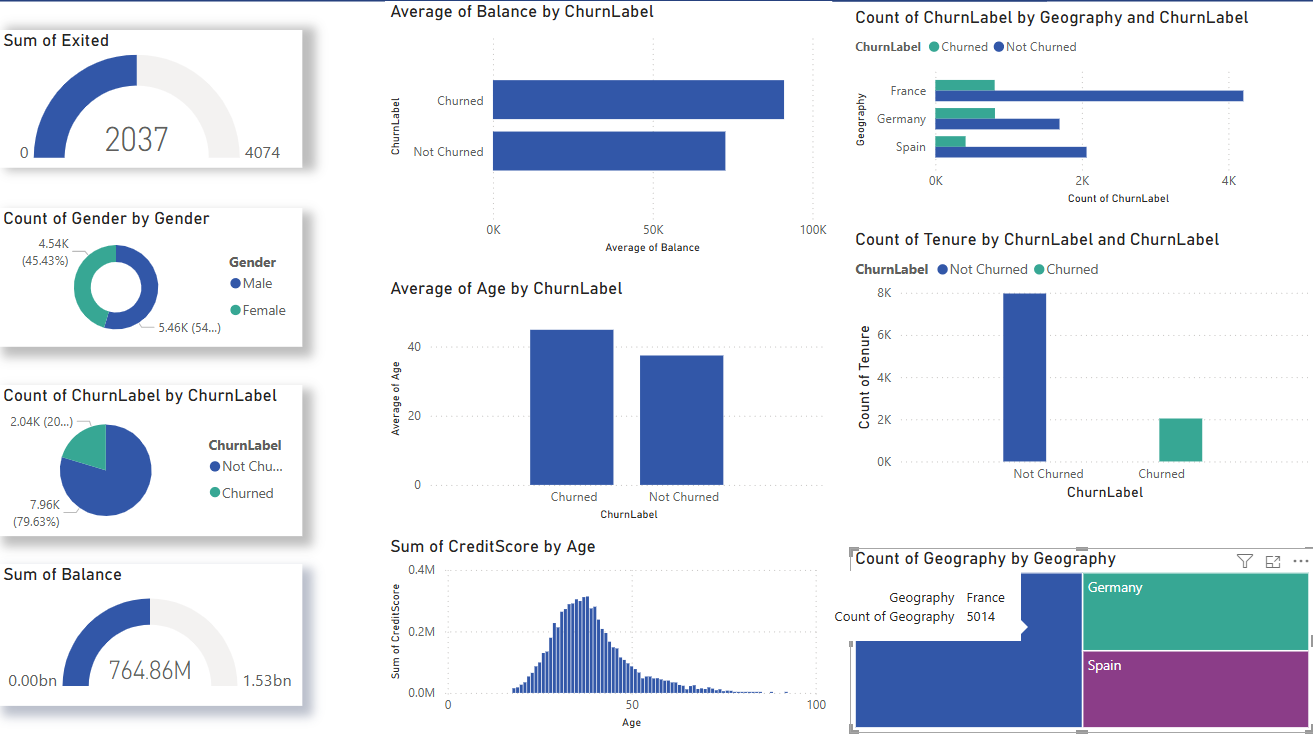

Layout of this report page (visuals, bound fields, positions):
{"tool":"powerbi","page":{"name":"Page 1","canvas":[1280,720],"ordinal":0},"visuals":[{"type":"clusteredColumnChart","fields":{"Category":["bank.Age"],"Y":["Sum(bank.CreditScore)"]},"box":[376.4,527.2,434.8,191.6],"z":0},{"type":"shape","box":[0,0,515.5,12.6],"z":1000},{"type":"shape","box":[504.8,0,515.5,12.6],"z":2000},{"type":"shape","box":[764.5,0,515.5,12.6],"z":3000},{"type":"donutChart","fields":{"Category":["bank.Gender"],"Y":["CountNonNull(bank.Gender)"]},"box":[0,285,295.7,120.6],"z":4000},{"type":"pieChart","fields":{"Category":["bank.ChurnLabel"],"Y":["CountNonNull(bank.ChurnLabel)"]},"box":[0,424.1,295.7,135.2],"z":5000},{"type":"gauge","fields":{"Y":["Sum(bank.Balance)"]},"box":[0,590.4,295.7,128.4],"z":6000},{"type":"lineStackedColumnComboChart","fields":{"Category":["bank.ChurnLabel"],"Y":["Avg(bank.Age)"]},"box":[376.4,276.2,434.8,240.2],"z":7000},{"type":"clusteredBarChart","fields":{"Category":["bank.ChurnLabel"],"Y":["Avg(bank.Balance)"]},"box":[0,6.8,295.7,118.7],"z":8000},{"type":"clusteredBarChart","fields":{"Category":["bank.Geography"],"Y":["CountNonNull(bank.ChurnLabel)"],"Series":["bank.ChurnLabel"]},"box":[828.7,12.6,451.3,196.5],"z":9000},{"type":"gauge","fields":{"Y":["Sum(bank.Exited)"]},"box":[0,148.8,295.7,119.6],"z":10000},{"type":"clusteredColumnChart","fields":{"Category":["bank.ChurnLabel"],"Series":["bank.ChurnLabel"],"Y":["CountNonNull(bank.Tenure)"]},"box":[828.7,228.6,451.3,269.4],"z":11000},{"type":"treemap","fields":{"Details":["bank.Geography"],"Values":["CountNonNull(bank.Geography)"]},"box":[828.7,538.8,451.3,179.9],"z":12000},{"type":"image","box":[334.6,51.6,417.3,177],"z":13000}]}

Visuals, with their boxes in screenshot pixels (x1, y1, x2, y2), scaled from the page's 1280x720 canvas onto the 1313x734 screenshot:
clusteredColumnChart - bank.Age x Sum(bank.CreditScore): 386/537/832/733
shape: 0/0/529/13
shape: 518/0/1047/13
shape: 784/0/1312/13
donutChart - bank.Gender x CountNonNull(bank.Gender): 0/291/303/413
pieChart - bank.ChurnLabel x CountNonNull(bank.ChurnLabel): 0/432/303/570
gauge - Sum(bank.Balance): 0/602/303/733
lineStackedColumnComboChart - bank.ChurnLabel x Avg(bank.Age): 386/282/832/526
clusteredBarChart - bank.ChurnLabel x Avg(bank.Balance): 0/7/303/128
clusteredBarChart - bank.Geography x CountNonNull(bank.ChurnLabel): 850/13/1312/213
gauge - Sum(bank.Exited): 0/152/303/274
clusteredColumnChart - bank.ChurnLabel x bank.ChurnLabel: 850/233/1312/508
treemap - bank.Geography x CountNonNull(bank.Geography): 850/549/1312/733
image: 343/53/771/233
